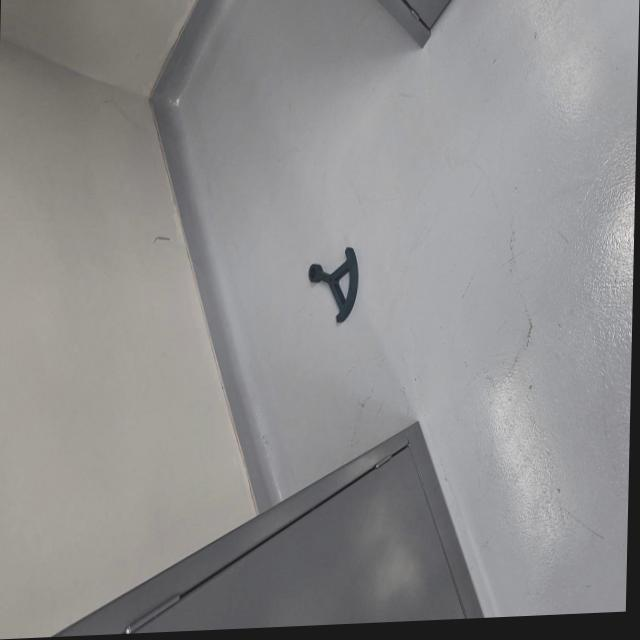haptic: (306, 246, 359, 325)
